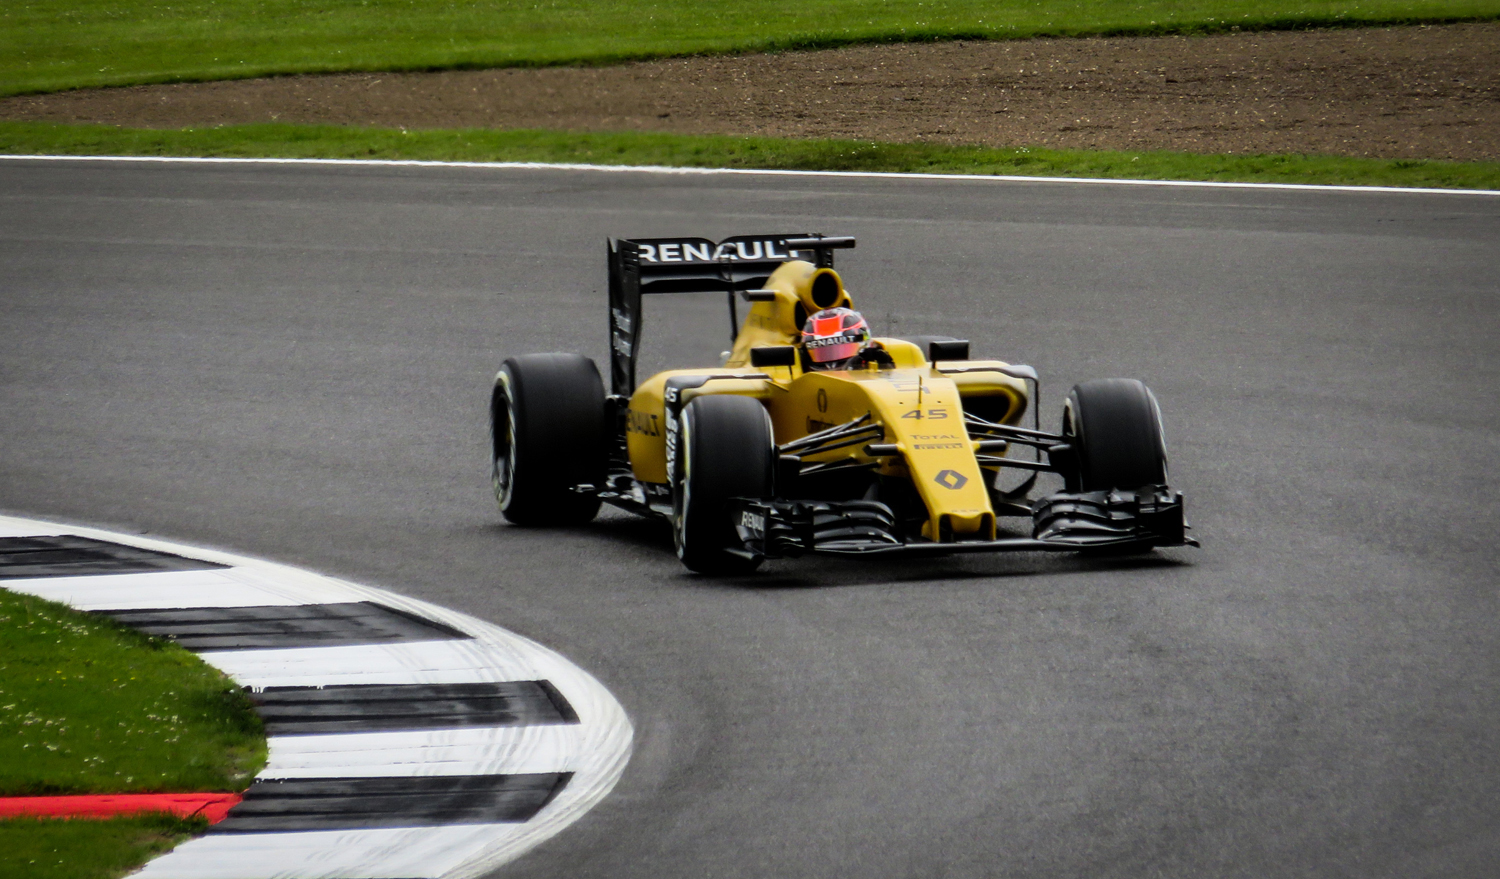F1 Car: (478, 221, 1208, 576)
